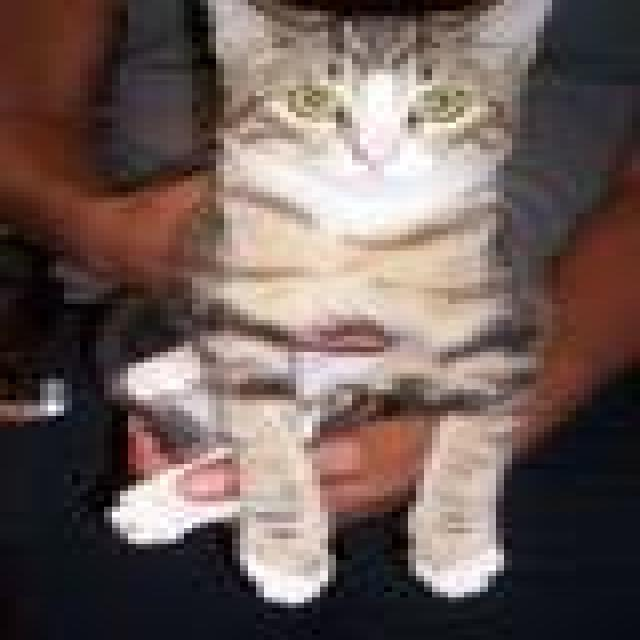Cats: (88, 0, 560, 597)
